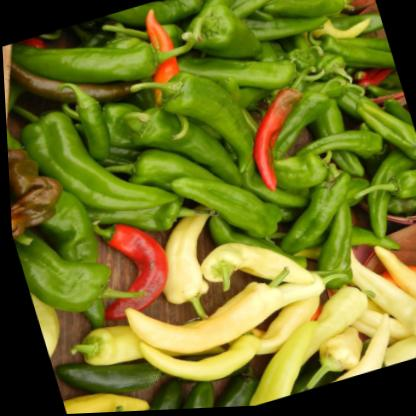chilli_pepper: (13, 81, 181, 246), (1, 0, 208, 115), (113, 261, 309, 373), (8, 193, 156, 336), (231, 60, 352, 195), (170, 151, 289, 259), (333, 231, 416, 368)
